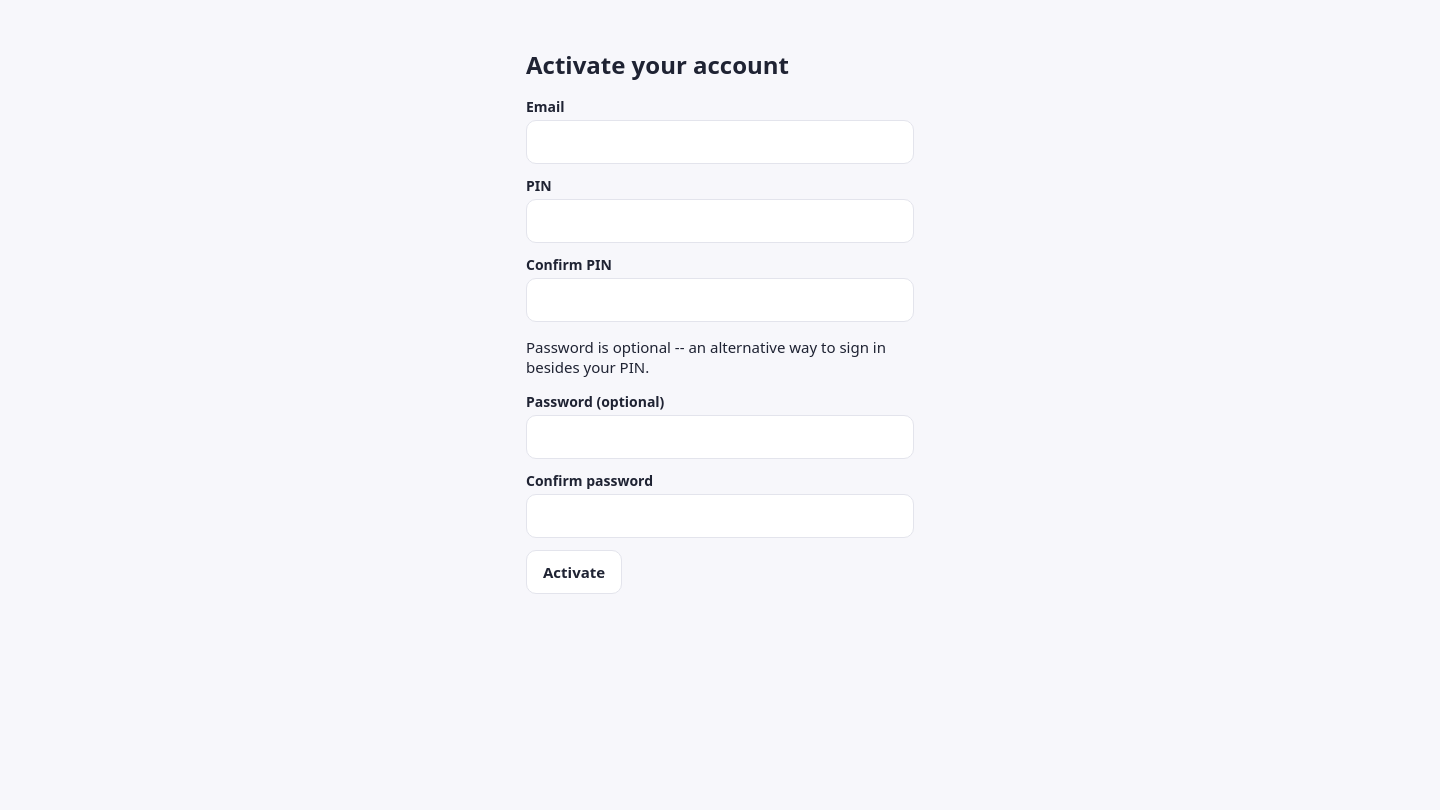
it: App › shows the activation form at /activate when a token is present in the URL
Expected: the heading "Activate your account" is shown, top-left (526, 48), bottom-right (789, 81)
Type "kid@example.com" into the field labelled "Email" at x=720, y=142, box top-left (526, 120), bottom-right (914, 164)
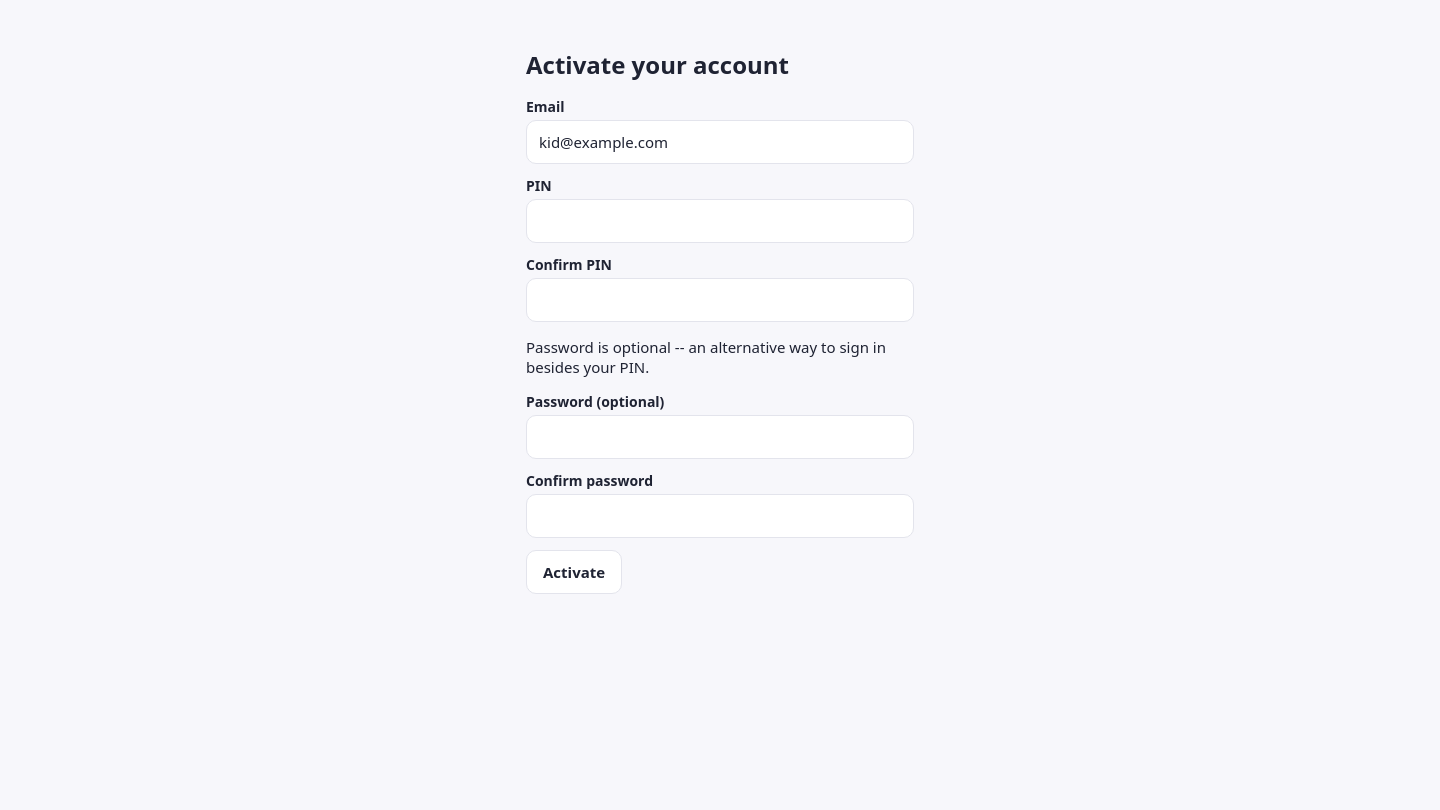
Type "1234" into the password field labelled "PIN" at x=720, y=221, box top-left (526, 199), bottom-right (914, 243)
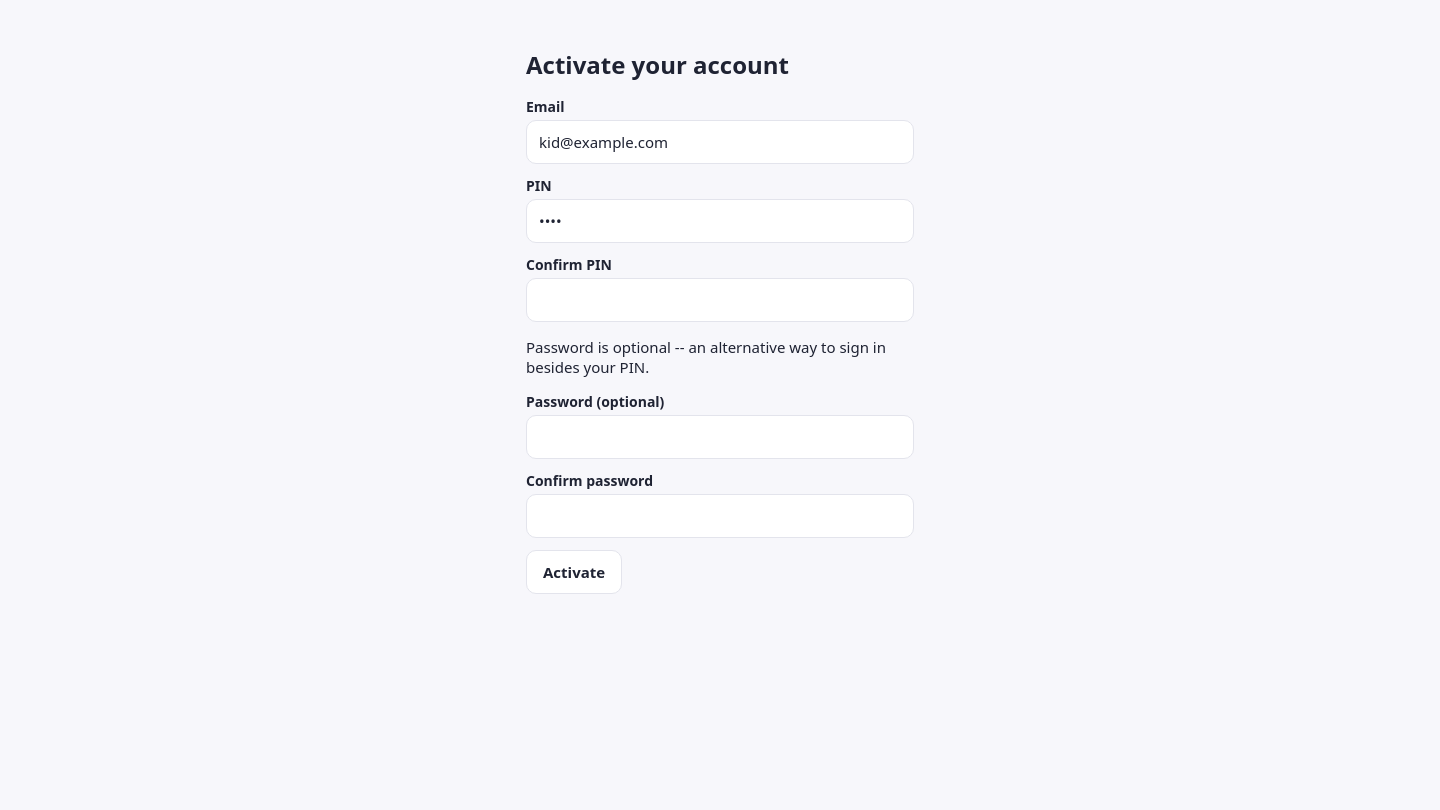
Type "1234" into the password field labelled "Confirm PIN" at x=720, y=300, box top-left (526, 278), bottom-right (914, 322)
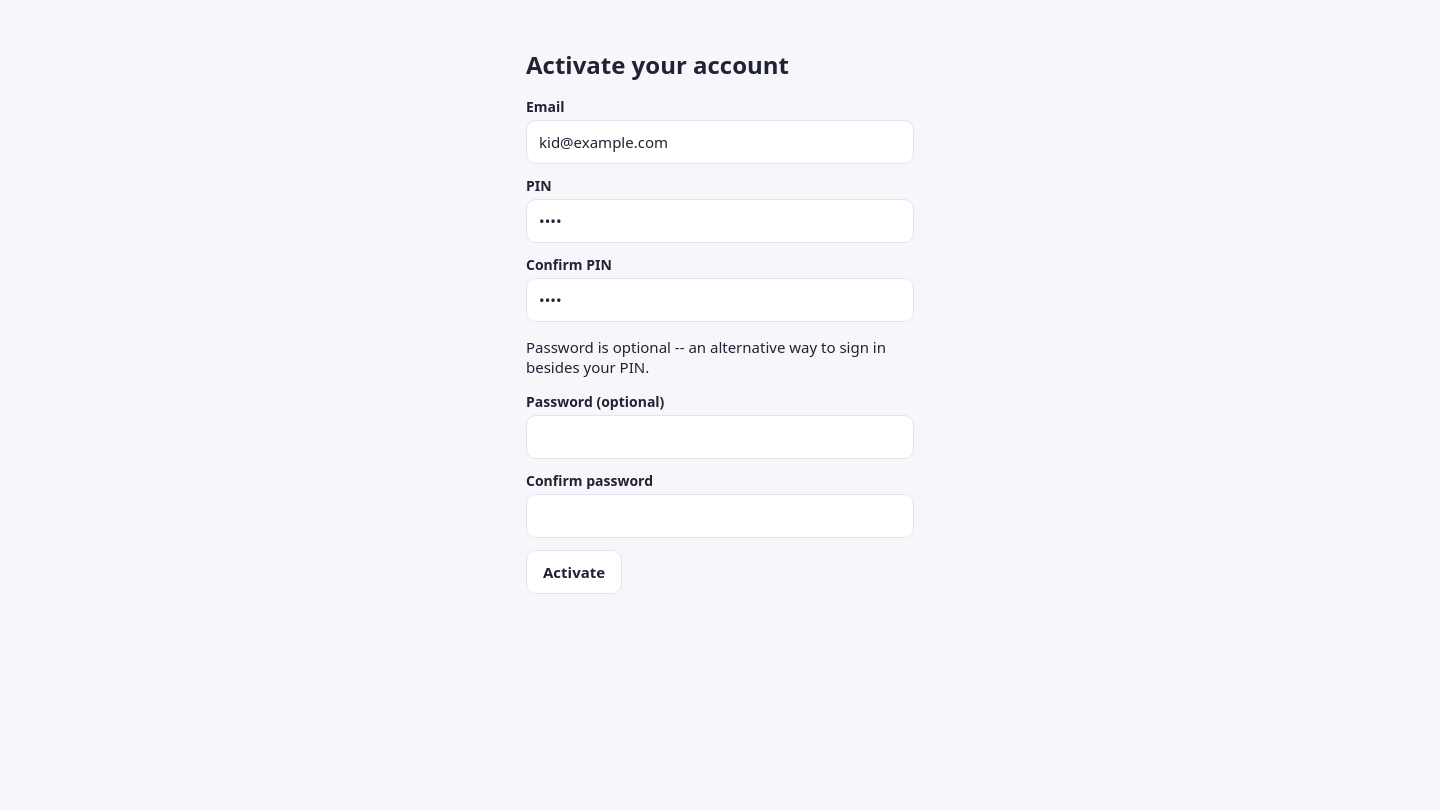
Type "a-password-1" into the password field labelled "Password (optional)" at x=720, y=437, box top-left (526, 415), bottom-right (914, 459)
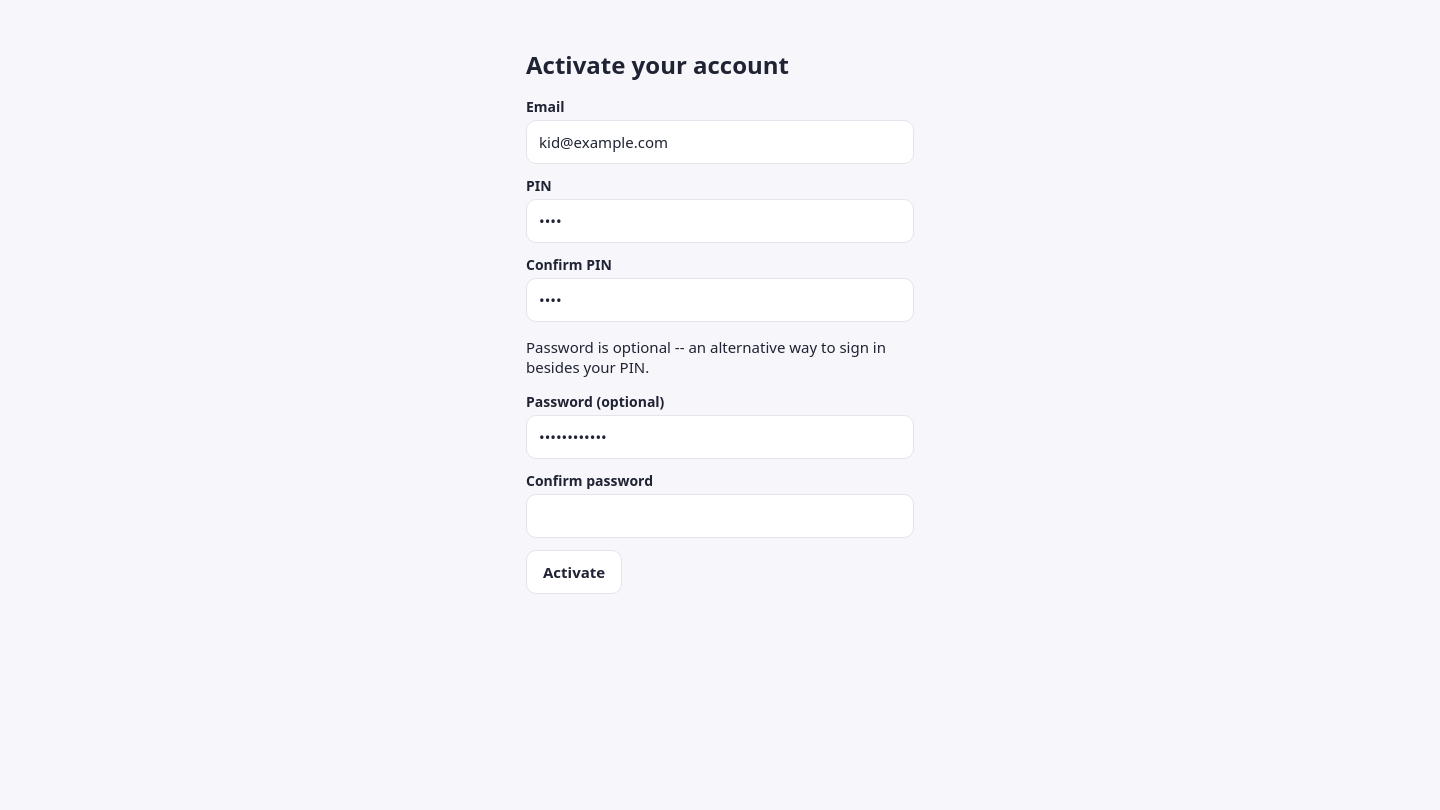
Type "a-password-1" into the password field labelled "Confirm password" at x=720, y=516, box top-left (526, 494), bottom-right (914, 538)
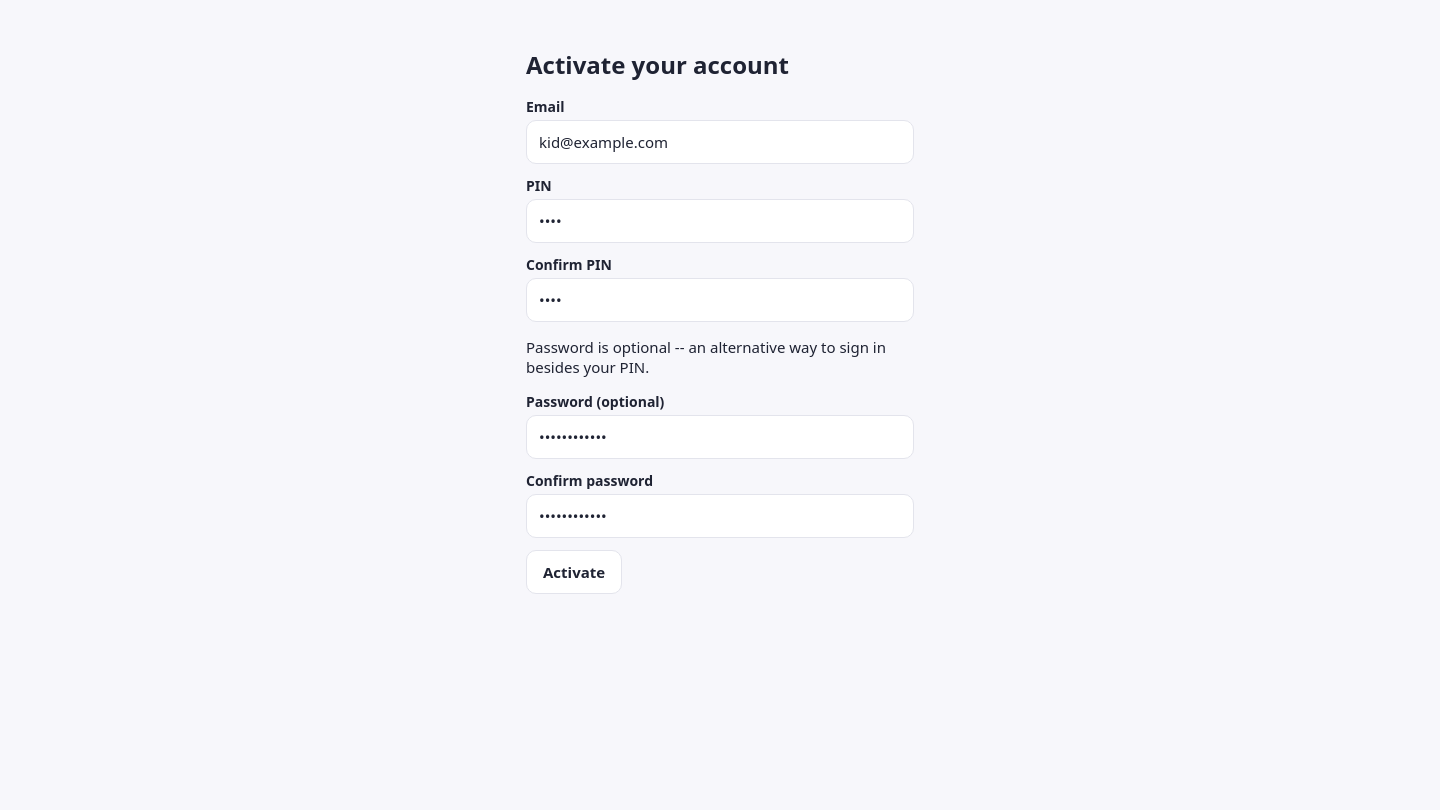
Click the button "Activate" at x=574, y=572, box top-left (526, 550), bottom-right (622, 594)
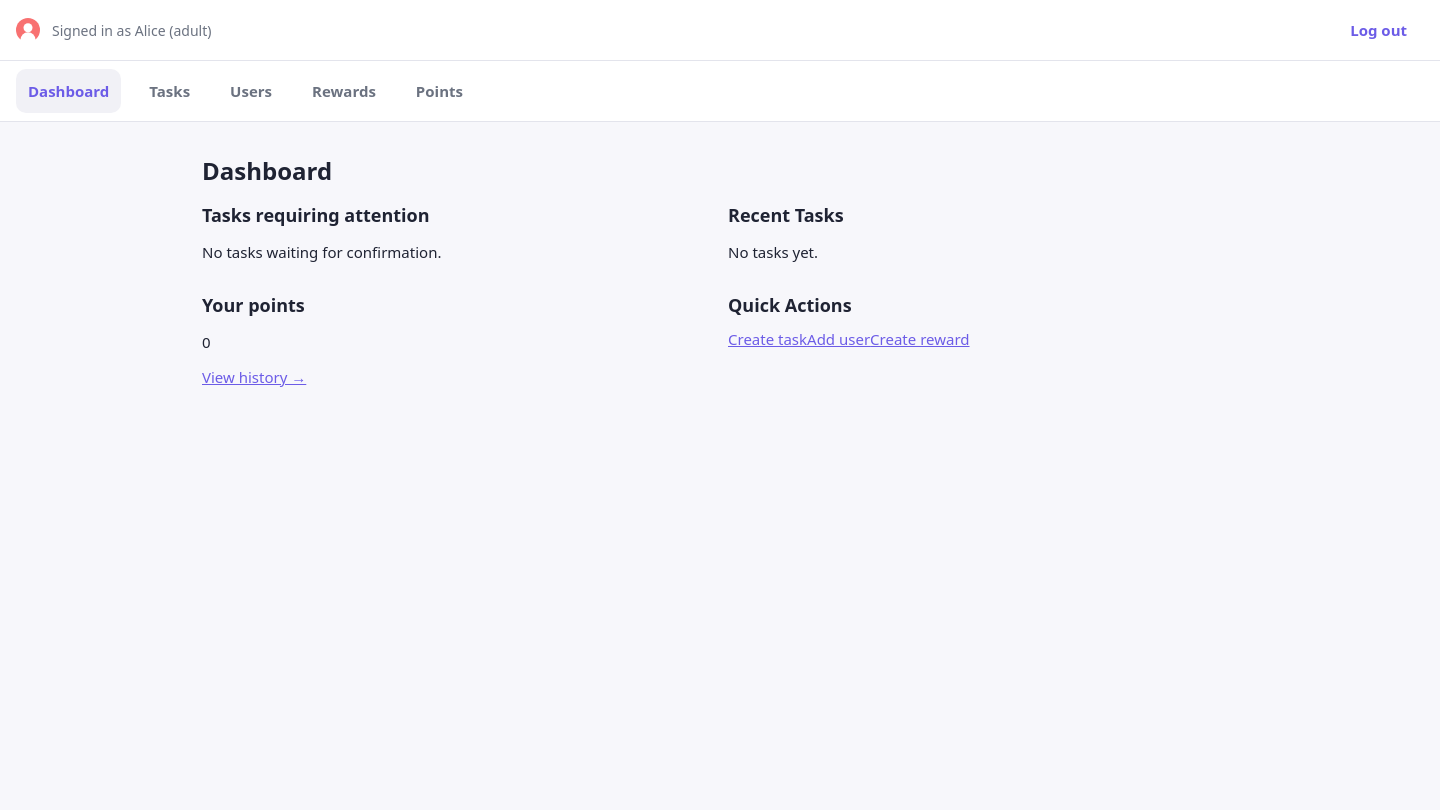
Expected: the text "Signed in as Alice (adult)" is shown, top-left (52, 20), bottom-right (212, 40)
